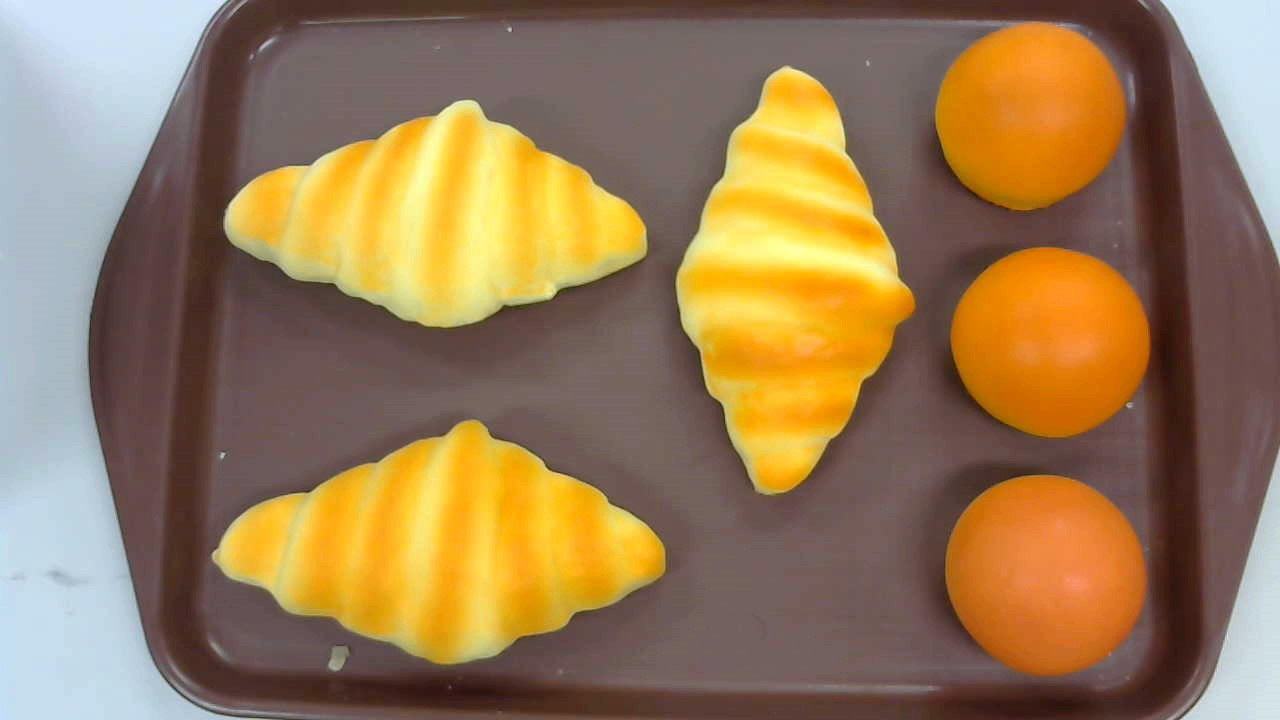bun: (944, 471, 1148, 678), (950, 245, 1151, 437), (934, 22, 1127, 212)
croissant: (210, 419, 666, 665), (675, 63, 915, 495), (222, 98, 647, 329)
